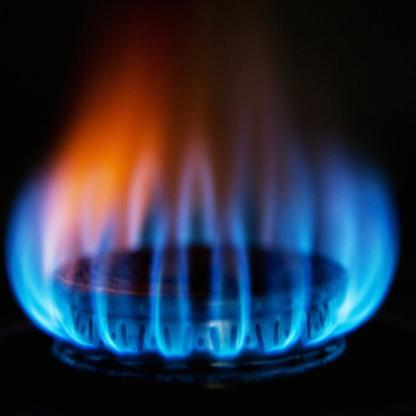fire: (0, 21, 416, 406)
